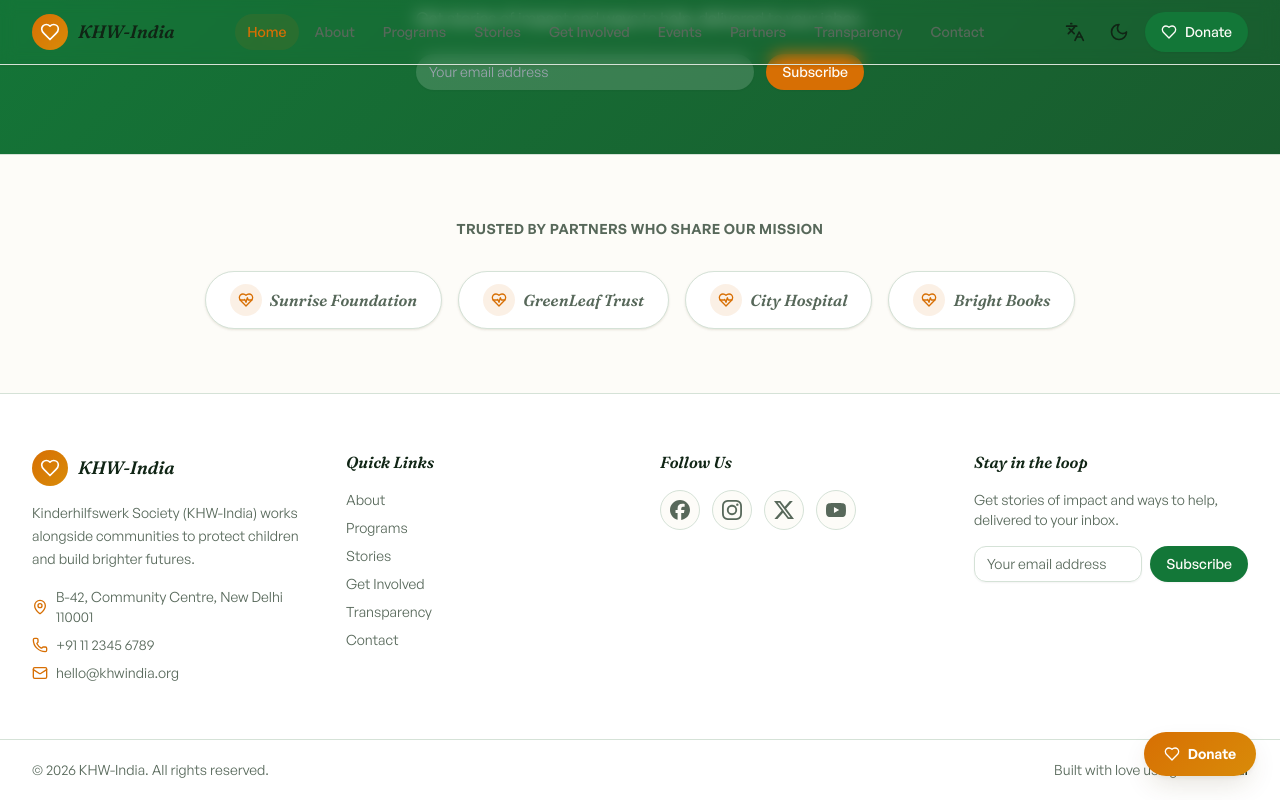
Test: Footer newsletter signup › subscribes an email and stores it for the admin dashboard
(page scrolled)
Type "new@example.com" into the field with test id "footer.newsletter_input" at (1058, 564), box 974,546 -> 1142,582
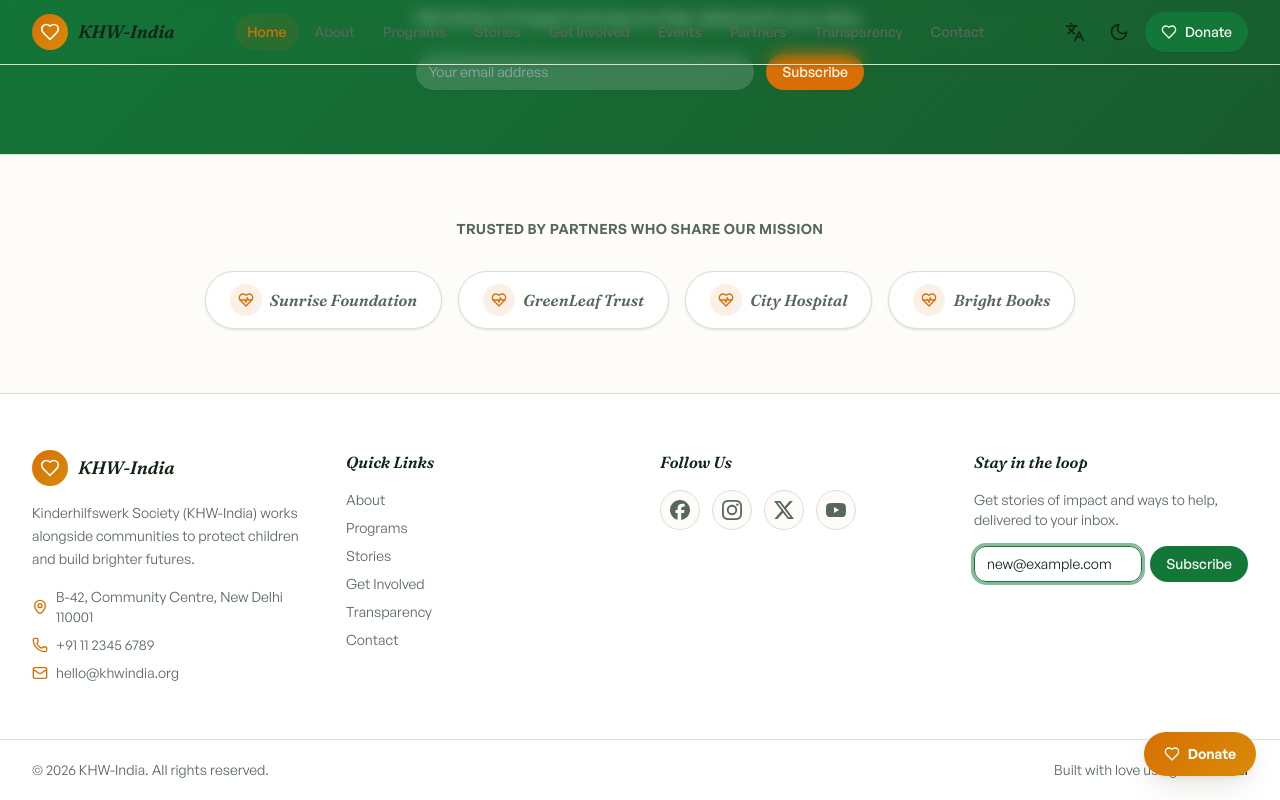
Click the button with test id "footer.newsletter_submit" at (1199, 564), box 1150,546 -> 1248,582
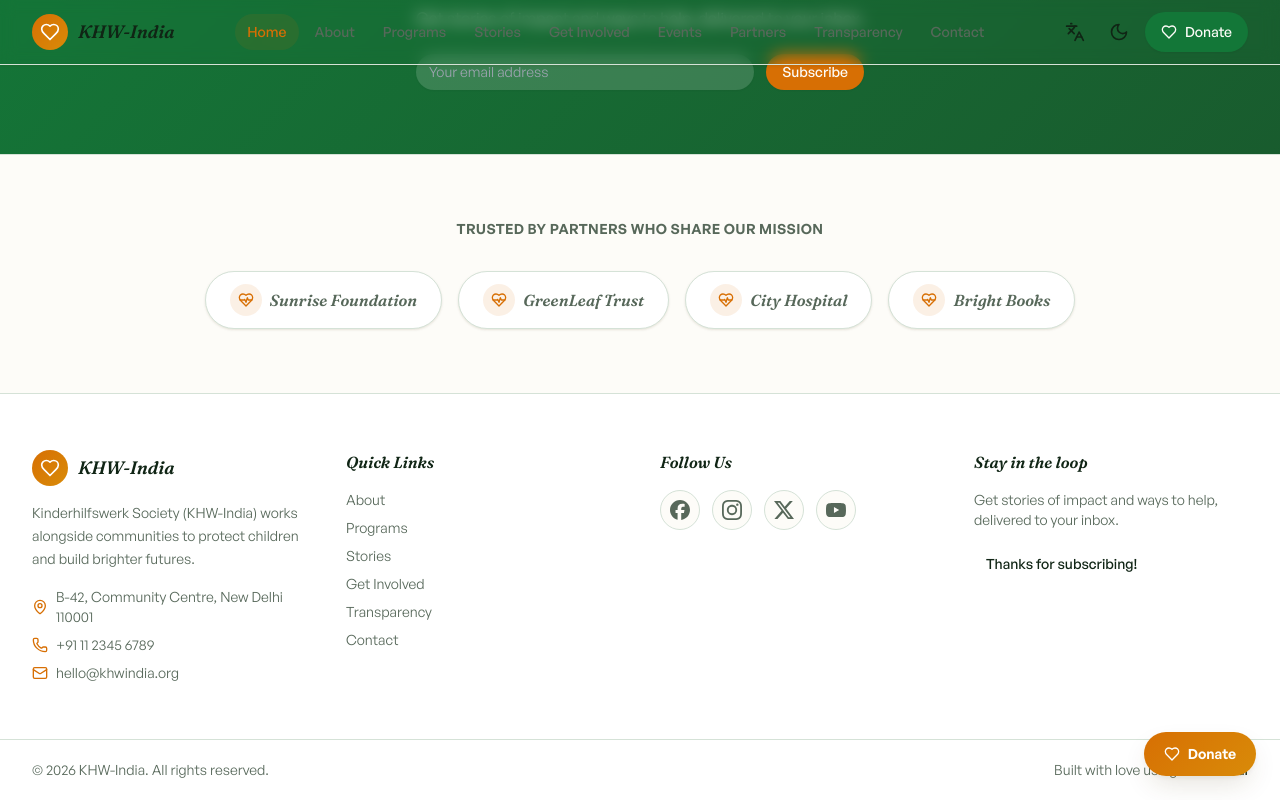
Now the text "Thanks for subscribing!" is shown, box 986,555 -> 1137,572
